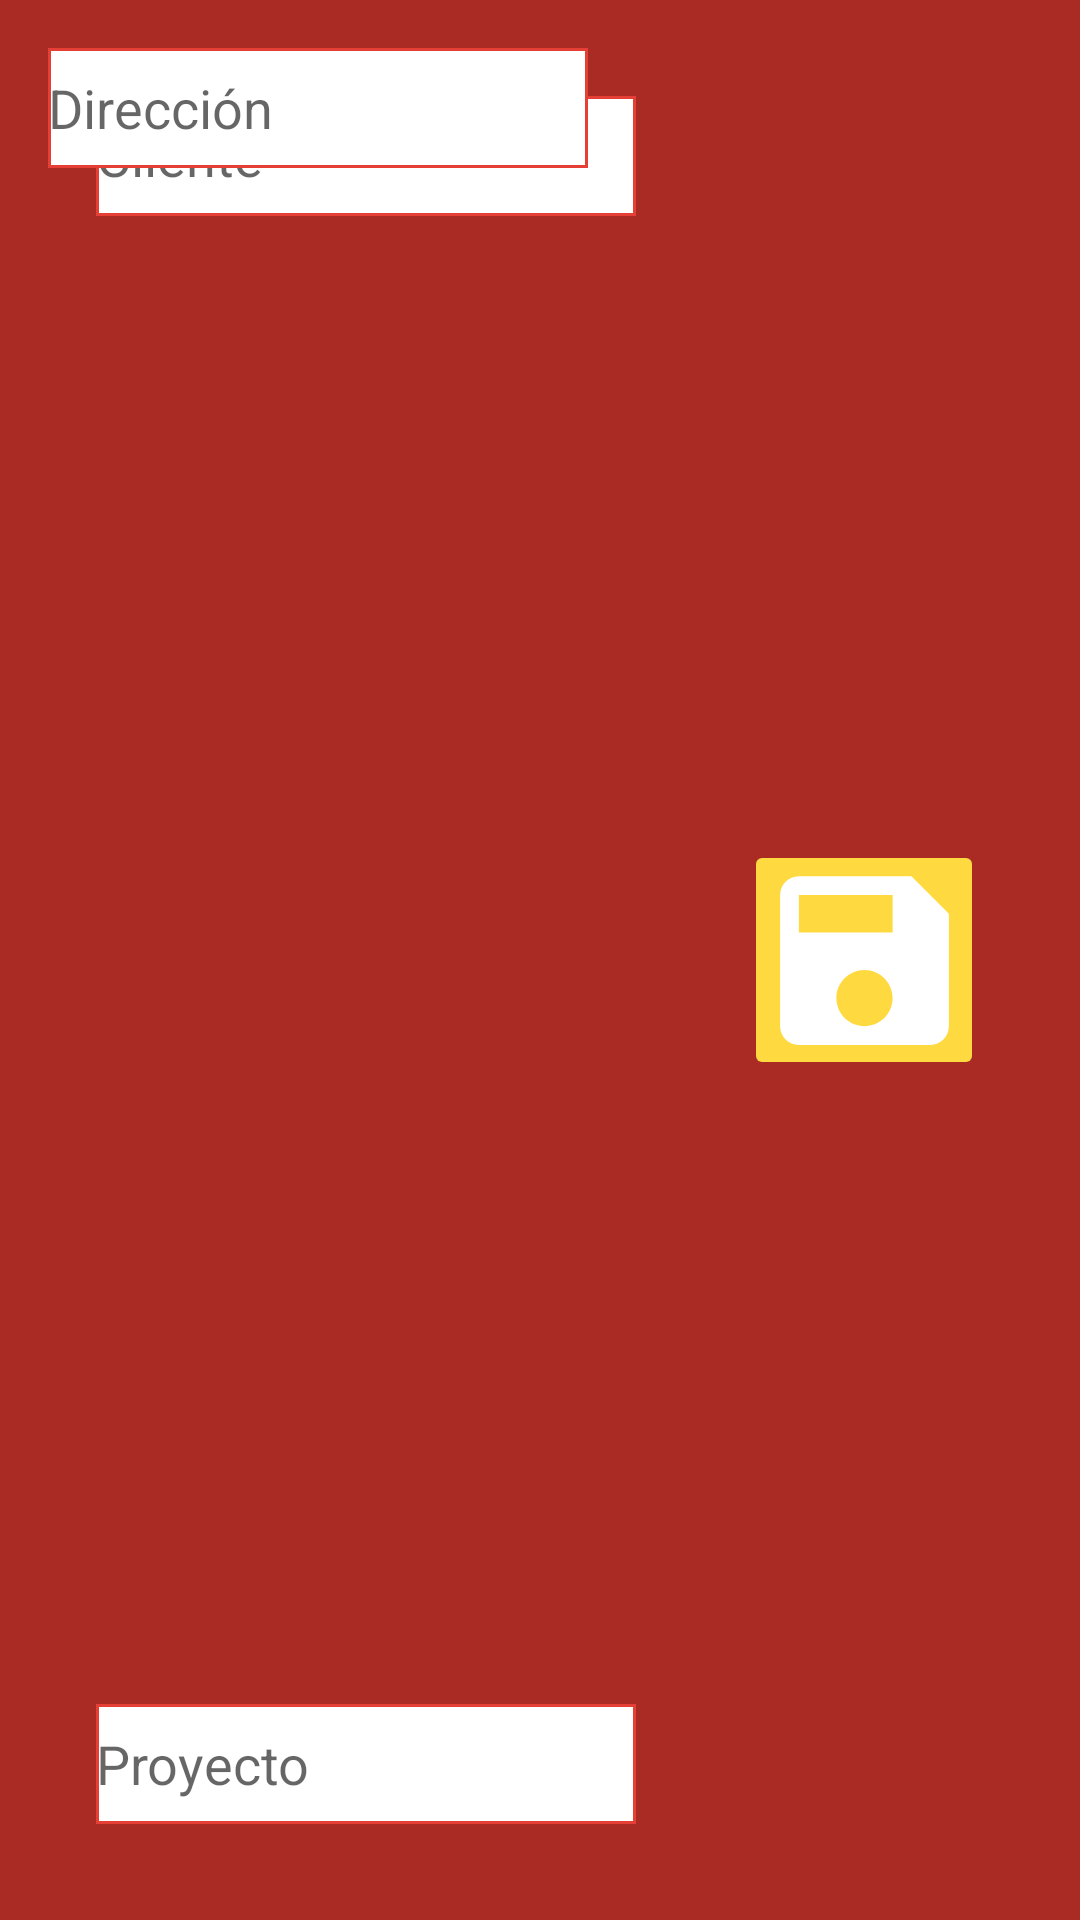

Icons on this 1080x1920 Android screen, each with its box as (x1, y1, x2, y2):
save: (756, 858, 972, 1062)
